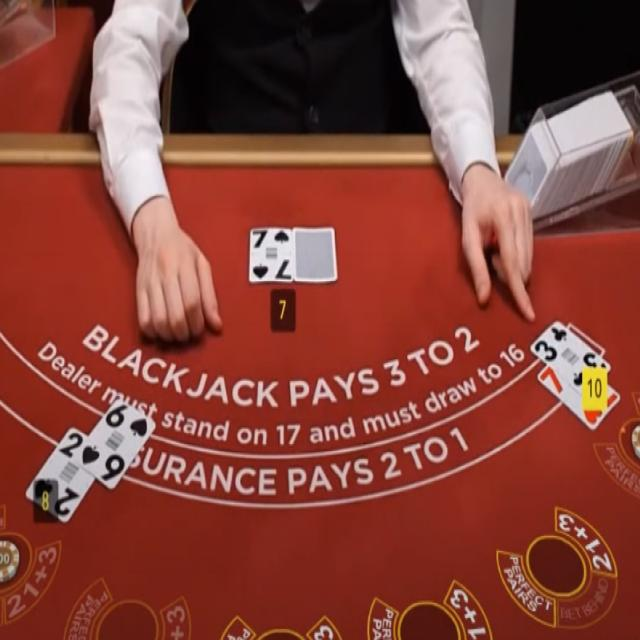Card-2: (26, 422, 95, 523)
Card-3: (529, 318, 612, 398)
Card-6: (73, 398, 156, 490)
Card-7: (537, 367, 620, 433), (249, 224, 292, 282)
